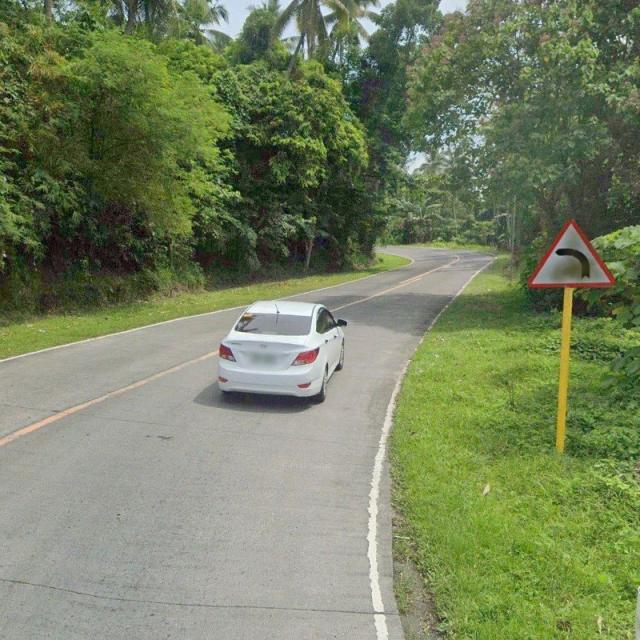warn_left_curve: (528, 216, 618, 288)
